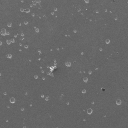corrosion: (19, 7, 31, 15), (49, 64, 57, 74), (5, 38, 15, 45), (64, 60, 72, 68), (115, 98, 122, 107), (6, 21, 14, 28), (33, 73, 40, 81), (86, 108, 94, 115), (82, 75, 89, 83), (80, 88, 88, 95), (35, 49, 44, 55), (9, 97, 16, 104), (6, 53, 13, 59), (104, 39, 111, 45), (33, 27, 40, 33), (23, 20, 29, 26), (72, 28, 78, 34), (53, 7, 59, 12), (98, 47, 104, 52), (20, 106, 25, 111), (84, 1, 90, 5), (80, 51, 84, 56), (24, 45, 28, 49), (40, 94, 44, 98)
